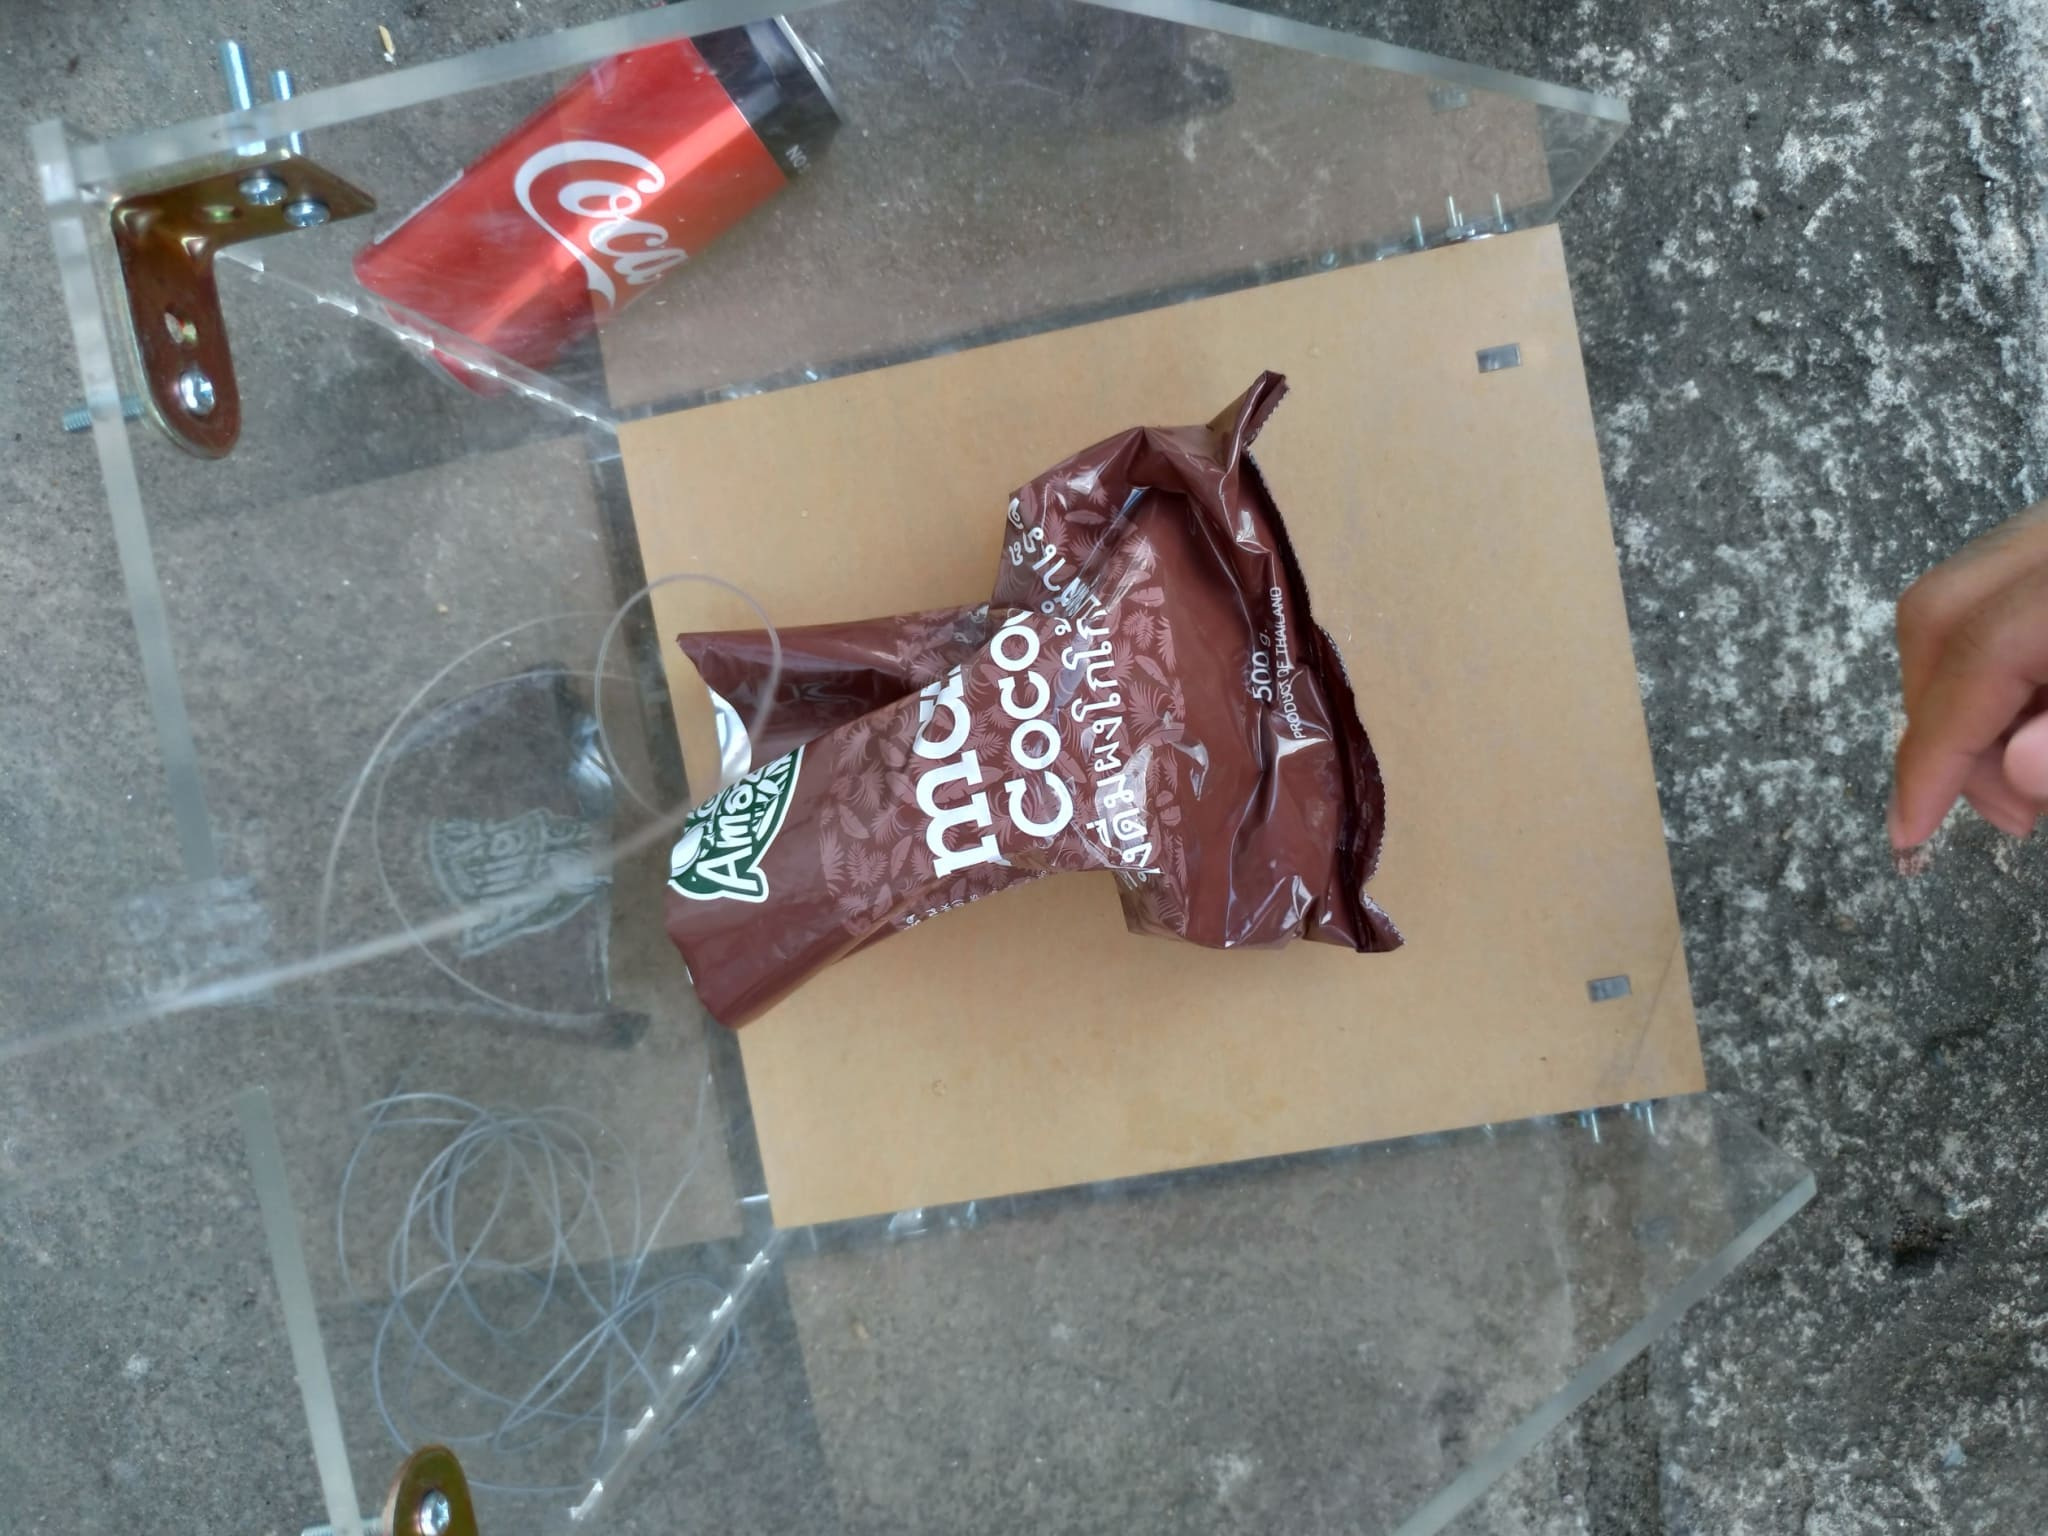AlCan: (348, 18, 839, 390)
Others: (684, 378, 1421, 1031)
